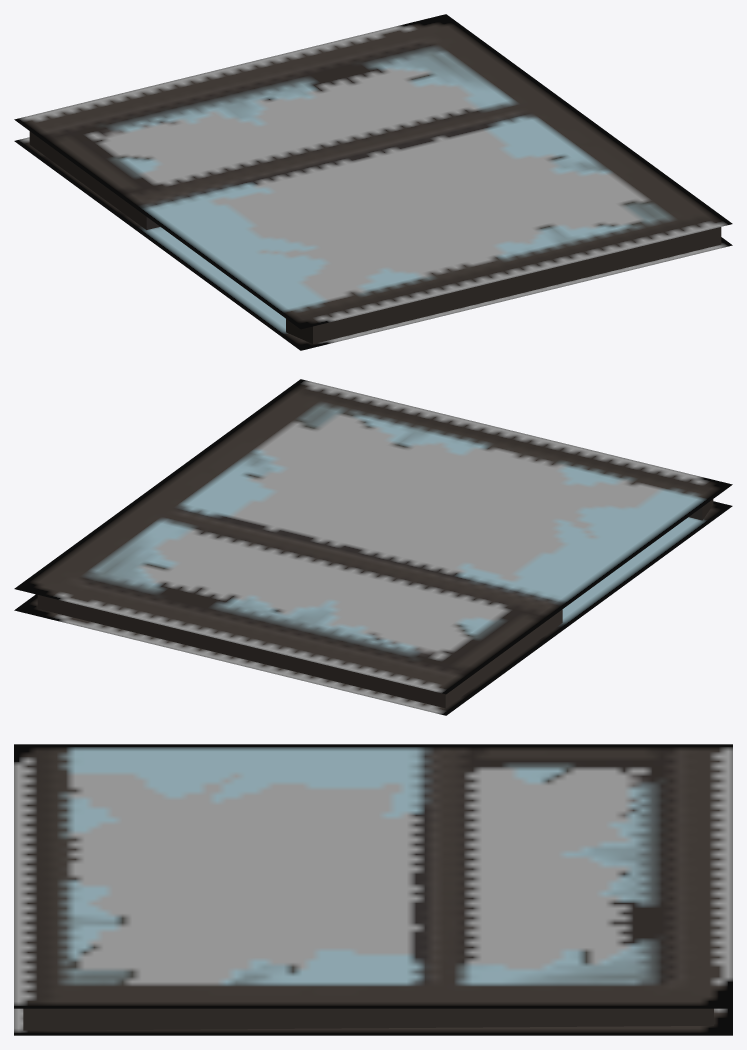
The model's file is pz_native_fixtures_windows_01_55_frame.obj.
3 renders of one model, top to bottom at view 1: azimuth 30°, elevation 25°; view 2: azimuth 150°, elevation 25°; view 3: azimuth 270°, elevation 25°, orthographic. The views are drawn at different scales.
Parts seen in each view (by area): view 1: pz_native_fixtures_windows_01_55_frame; view 2: pz_native_fixtures_windows_01_55_frame; view 3: pz_native_fixtures_windows_01_55_frame.
Part boxes in pixels (x1,y1,x2,y2): pz_native_fixtures_windows_01_55_frame: (14,14,732,350); pz_native_fixtures_windows_01_55_frame: (14,379,732,715); pz_native_fixtures_windows_01_55_frame: (14,744,732,1035).
Size of the model in its own units: 0.8438 by 0.04 by 0.9696.
Materials: 1 (1 with a texture image).
